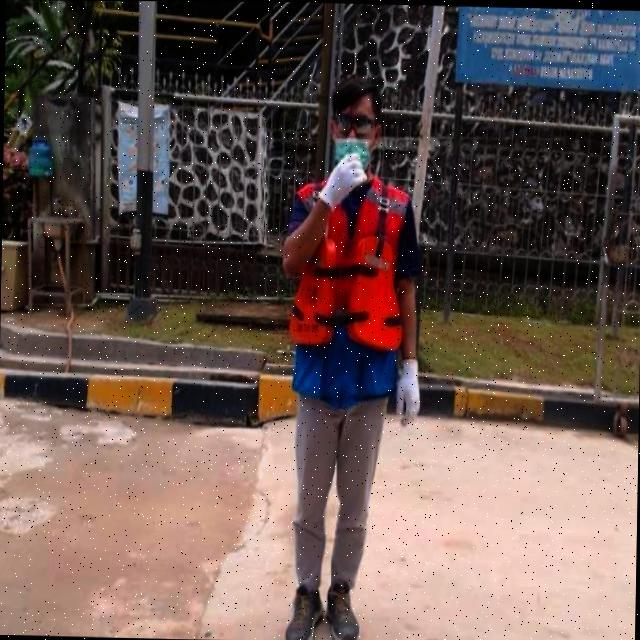goggles_on: (327, 108, 382, 142)
